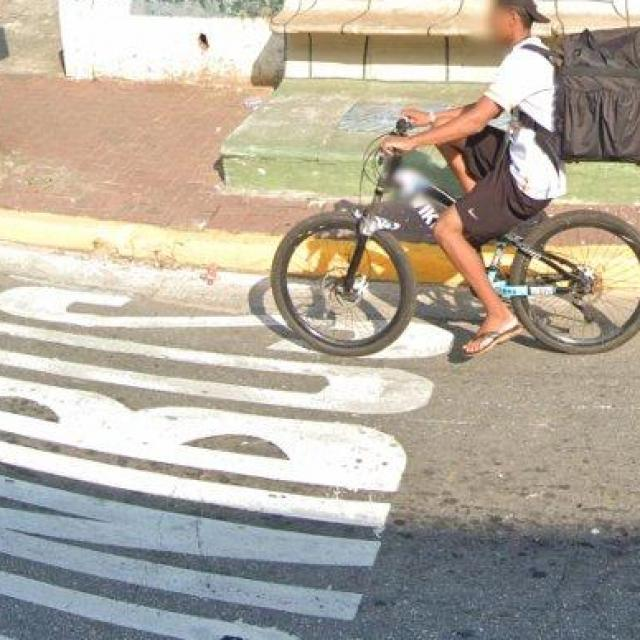bicycle: (208, 96, 640, 398)
